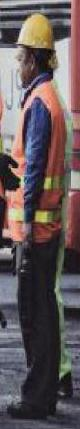hat: (10, 1, 65, 73)
vest: (9, 78, 80, 258)
